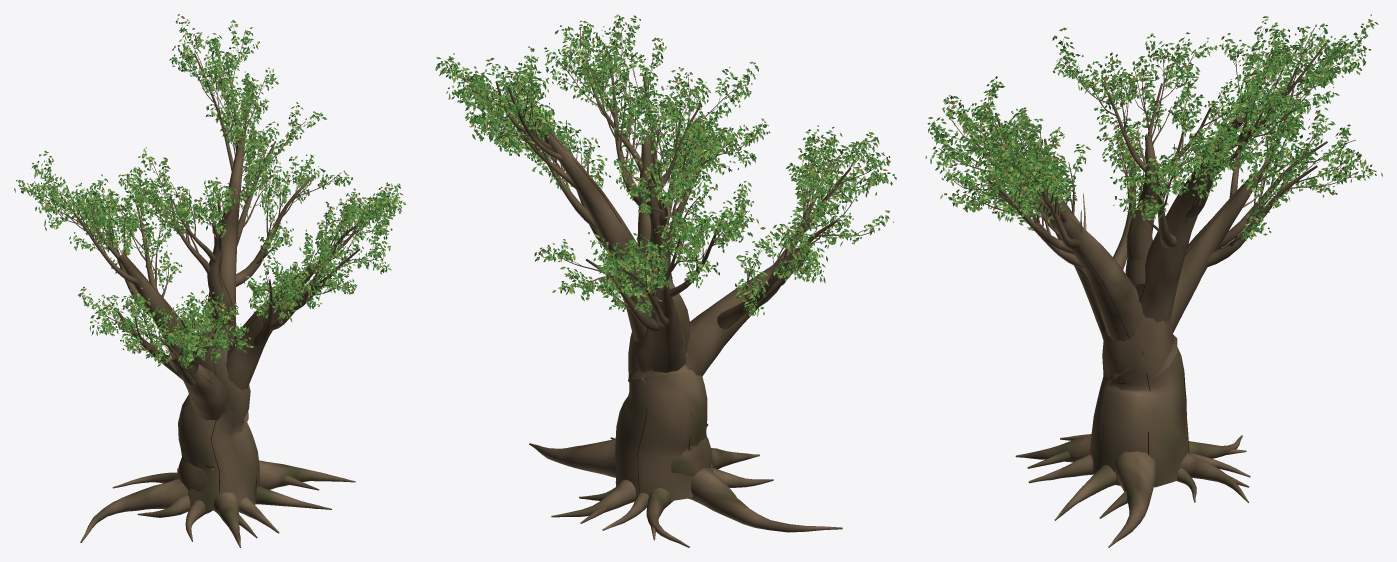
The model's file is ancient_tree_09.glb.
The picture shows the model from 3 angles, left to right: view 1: azimuth 30°, elevation 25°; view 2: azimuth 150°, elevation 25°; view 3: azimuth 270°, elevation 25°; orthographic projection. The views are drawn at different scales.
Visible parts, largest first — view 1: AncientLeaves, AncientTreeWood, FineBranches; view 2: AncientTreeWood, AncientLeaves, FineBranches; view 3: AncientTreeWood, AncientLeaves, FineBranches, DirectedBarkGrooves.
Boxes of the visible parts, left/top/right/bottom form: AncientLeaves: left=14, top=14, right=406, bottom=368; AncientTreeWood: left=34, top=32, right=395, bottom=547; FineBranches: left=20, top=23, right=393, bottom=362; AncientTreeWood: left=448, top=28, right=877, bottom=547; AncientLeaves: left=435, top=14, right=896, bottom=317; FineBranches: left=439, top=21, right=885, bottom=309; AncientTreeWood: left=934, top=28, right=1361, bottom=547; AncientLeaves: left=925, top=14, right=1382, bottom=241; FineBranches: left=934, top=28, right=1368, bottom=240; DirectedBarkGrooves: left=1043, top=123, right=1251, bottom=468.
Size of the model in its own units: 17.82 by 24.6 by 20.68.
